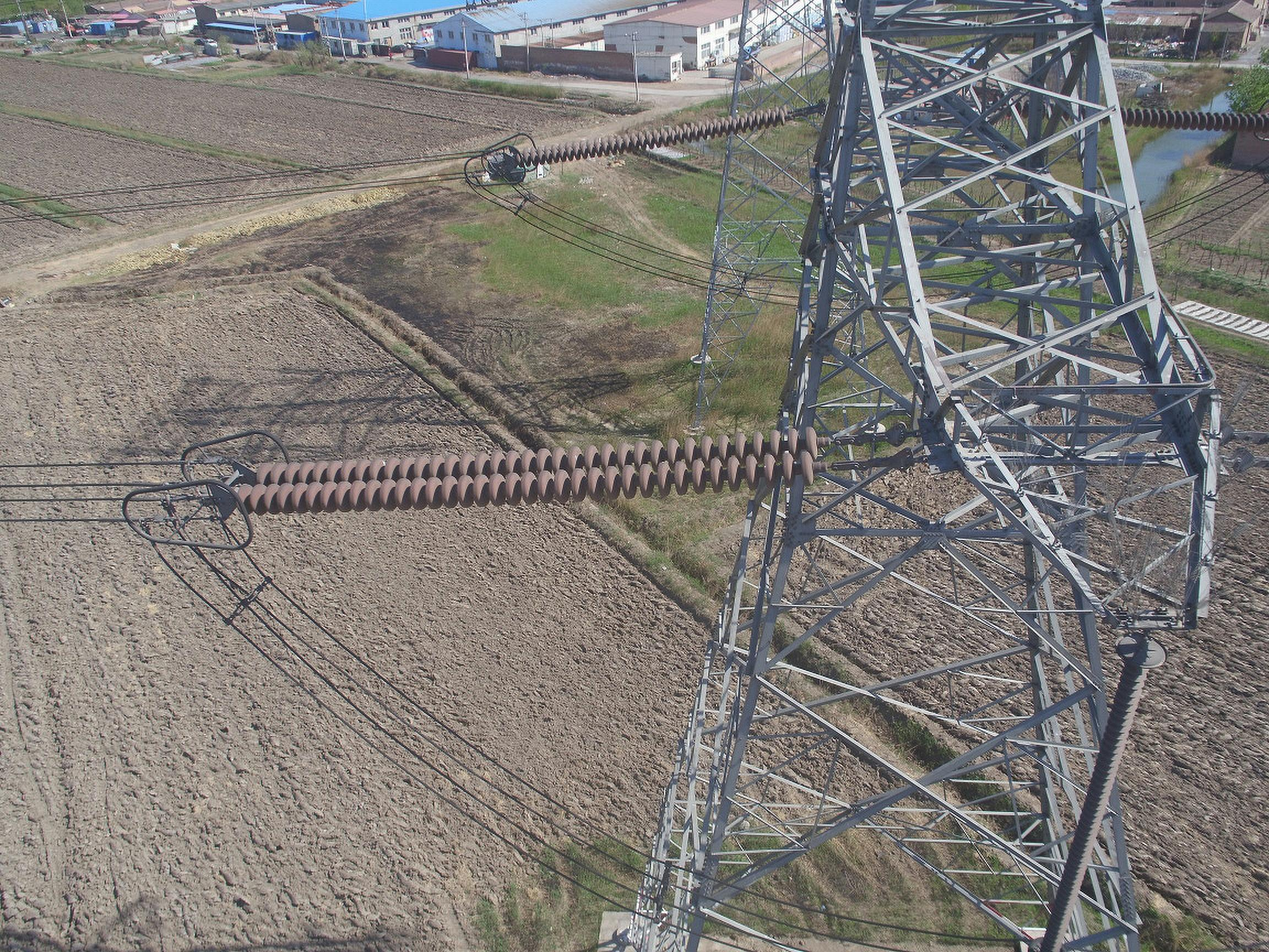insulator: (230, 424, 819, 522), (1036, 658, 1152, 952), (514, 103, 790, 170), (1120, 102, 1269, 137)
